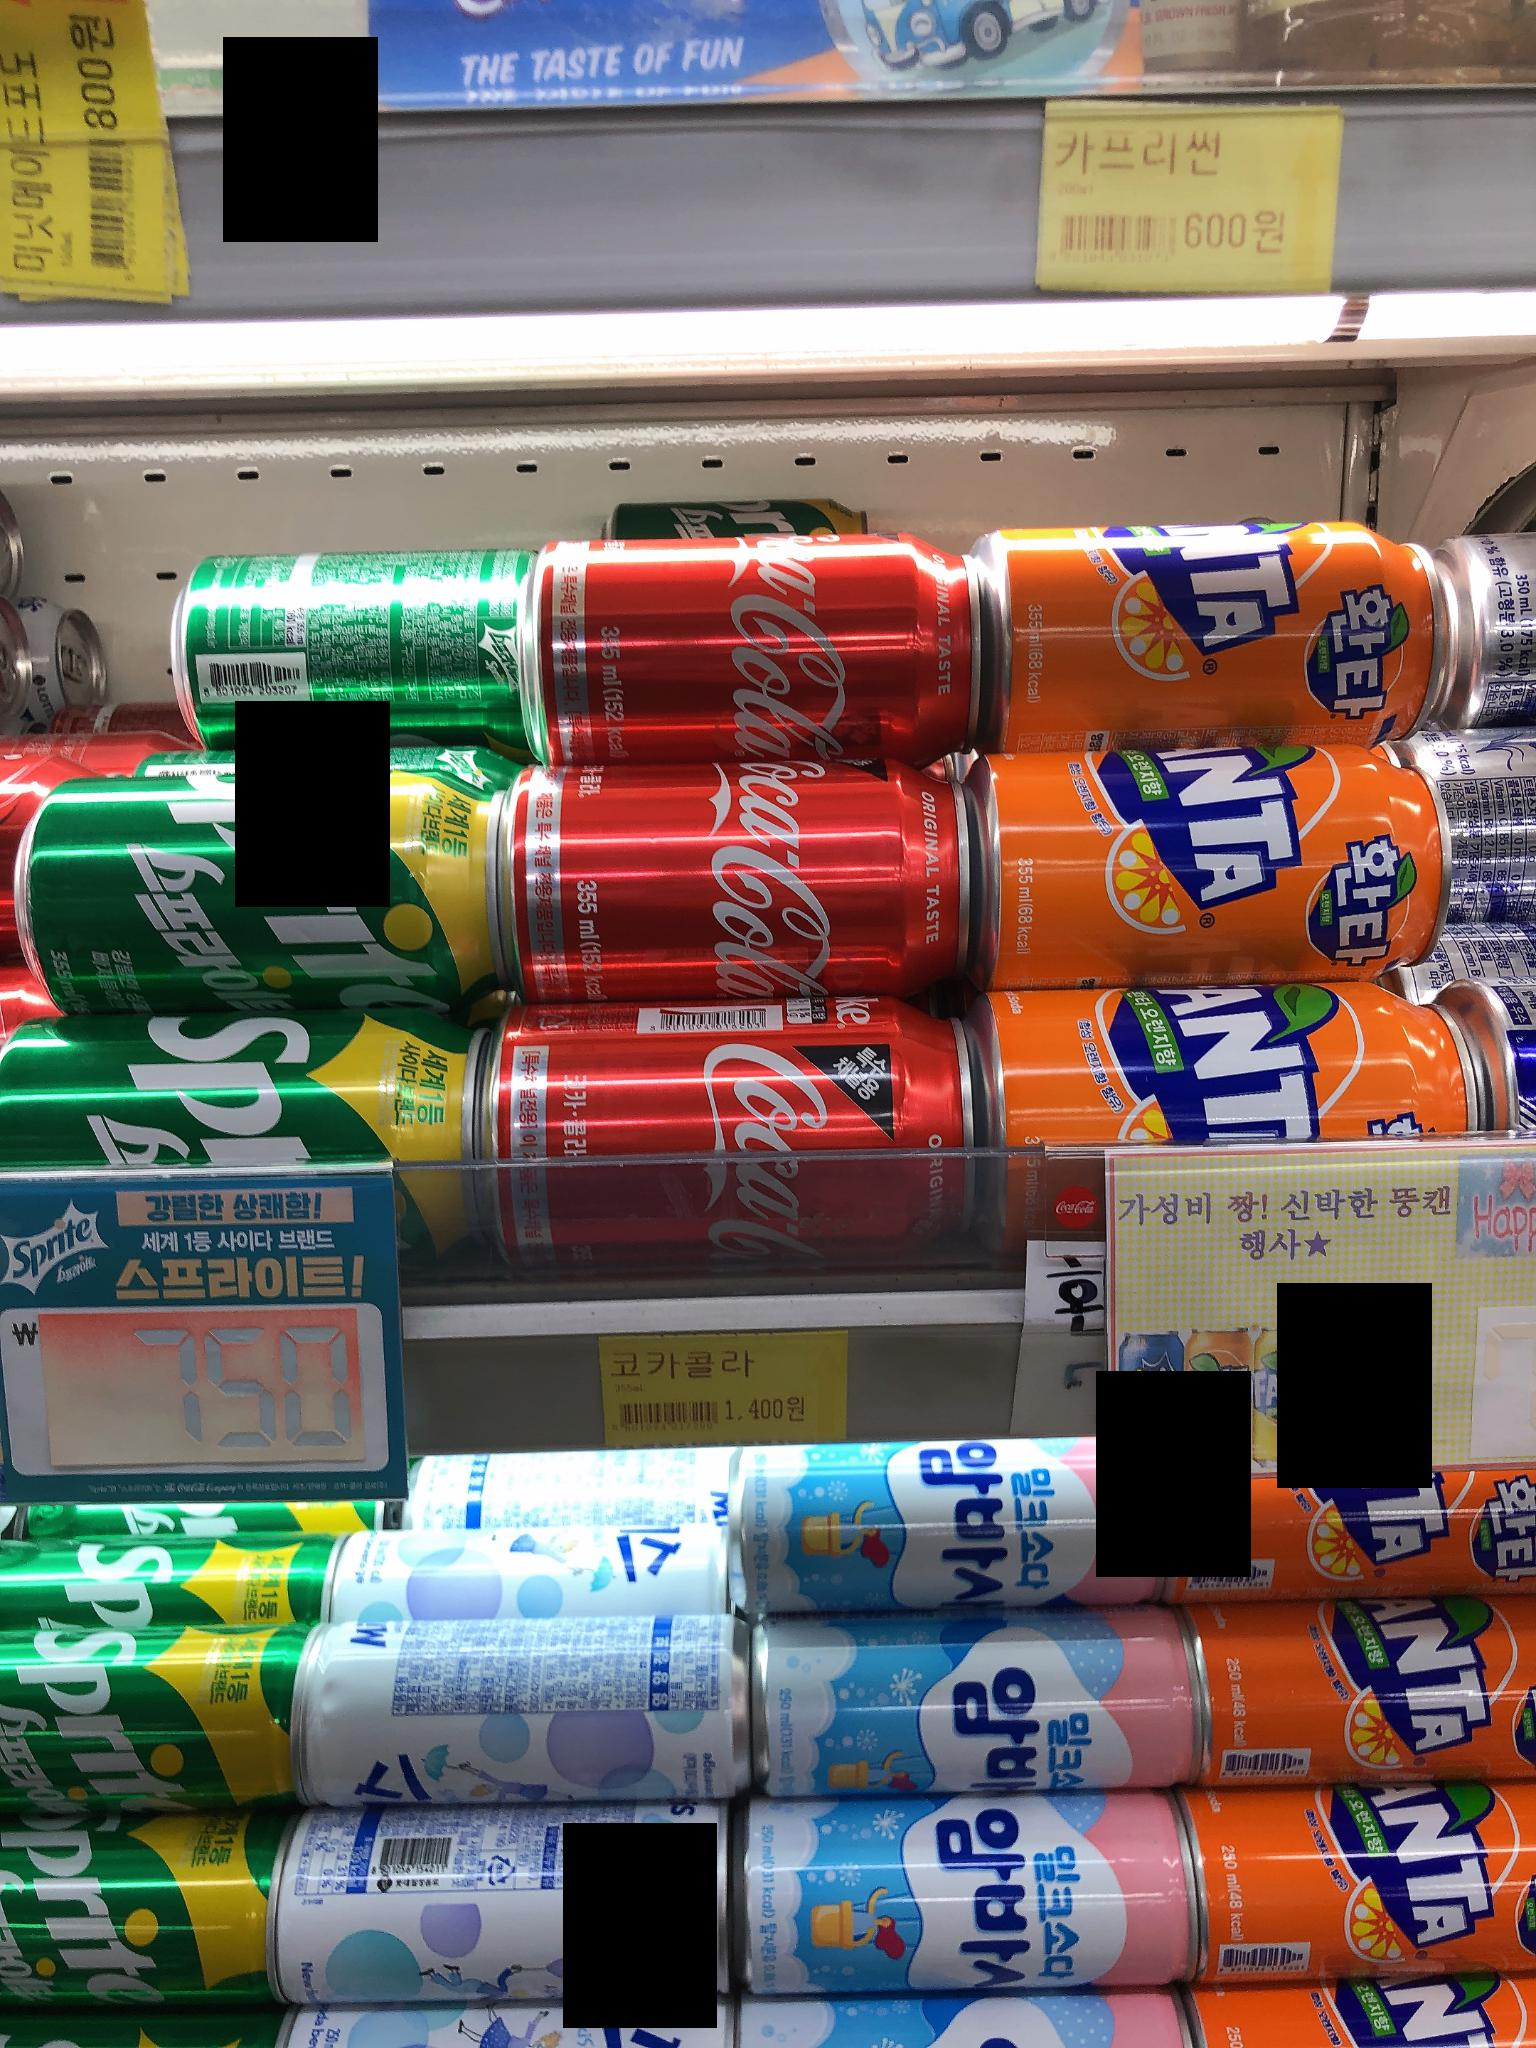cocacola: (500, 989, 992, 1309), (500, 697, 999, 985), (536, 519, 1023, 734)
fanta_orange: (984, 718, 1480, 971), (999, 968, 1533, 1172), (984, 498, 1486, 706)
